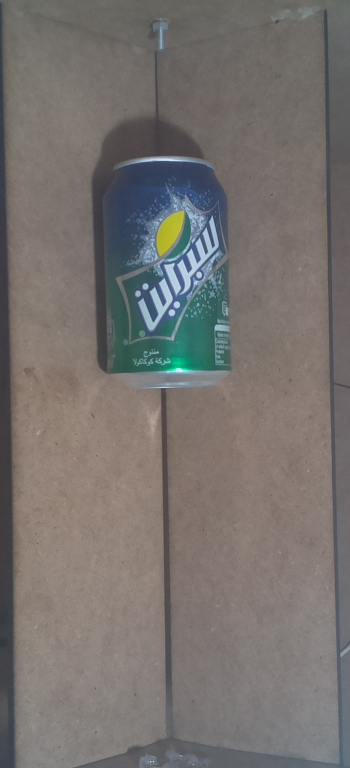Canette: (96, 146, 243, 400)
